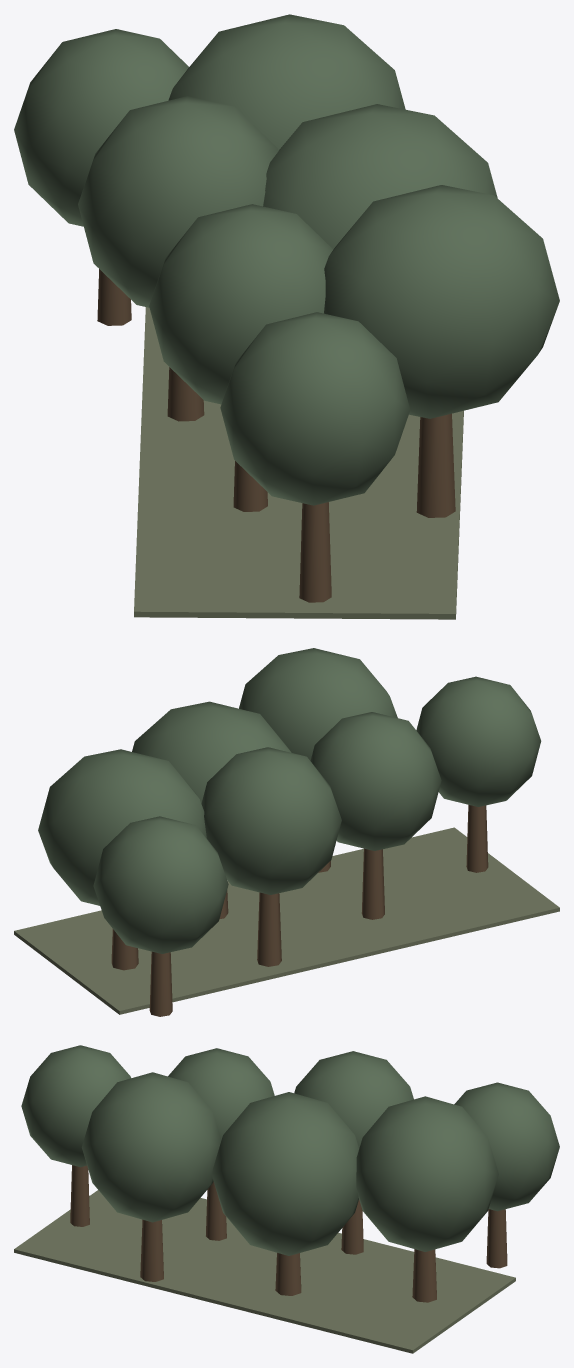
File: courant-garden.glb
3 renders of one model, top to bottom at view 1: azimuth 30°, elevation 25°; view 2: azimuth 150°, elevation 25°; view 3: azimuth 270°, elevation 25°, orthographic. The views are drawn at different scales.
Parts seen in each view (by area): view 1: Courant Mercer Street garden and mature trees, object 14, object 15, object 11, object 13, object 12, object 10, object 9, object 7, object 8, object 2, object 4 (+1 smaller); view 2: Courant Mercer Street garden and mature trees, object 11, object 9, object 10, object 13, object 15, object 14, object 12, object 4, object 6, object 2, object 8 (+1 smaller); view 3: Courant Mercer Street garden and mature trees, object 12, object 10, object 14, object 15, object 9, object 11, object 13, object 7, object 3, object 2, object 8 (+3 smaller).
Part boxes in pixels (x1=…): Courant Mercer Street garden and mature trees: x1=134, y1=307, x2=463, y2=619; object 14: x1=324, y1=185, x2=559, y2=418; object 15: x1=220, y1=312, x2=410, y2=505; object 11: x1=78, y1=96, x2=278, y2=307; object 13: x1=149, y1=204, x2=333, y2=404; object 12: x1=263, y1=104, x2=497, y2=249; object 10: x1=168, y1=14, x2=405, y2=150; object 9: x1=14, y1=29, x2=188, y2=226; object 7: x1=416, y1=413, x2=455, y2=517; object 8: x1=299, y1=502, x2=331, y2=602; object 2: x1=97, y1=269, x2=131, y2=325; object 4: x1=167, y1=367, x2=204, y2=421; Courant Mercer Street garden and mature trees: x1=14, y1=827, x2=559, y2=1014; object 11: x1=201, y1=747, x2=341, y2=894; object 9: x1=93, y1=816, x2=228, y2=953; object 10: x1=38, y1=749, x2=206, y2=905; object 13: x1=310, y1=712, x2=441, y2=850; object 15: x1=416, y1=676, x2=541, y2=806; object 14: x1=239, y1=648, x2=397, y2=760; object 12: x1=132, y1=701, x2=291, y2=803; object 4: x1=257, y1=892, x2=281, y2=966; object 6: x1=361, y1=848, x2=384, y2=919; object 2: x1=149, y1=951, x2=172, y2=1016; object 8: x1=466, y1=805, x2=488, y2=872; Courant Mercer Street garden and mature trees: x1=14, y1=1190, x2=515, y2=1353; object 12: x1=212, y1=1092, x2=358, y2=1255; object 10: x1=356, y1=1096, x2=498, y2=1251; object 14: x1=81, y1=1072, x2=221, y2=1222; object 15: x1=21, y1=1045, x2=130, y2=1167; object 9: x1=454, y1=1082, x2=559, y2=1211; object 11: x1=294, y1=1051, x2=413, y2=1148; object 13: x1=168, y1=1048, x2=274, y2=1139; object 7: x1=140, y1=1219, x2=163, y2=1281; object 3: x1=412, y1=1249, x2=436, y2=1302; object 2: x1=486, y1=1209, x2=507, y2=1268; object 8: x1=70, y1=1165, x2=89, y2=1226.
Bounding box in the file's own units: 25.63 × 13.81 × 34.05.
